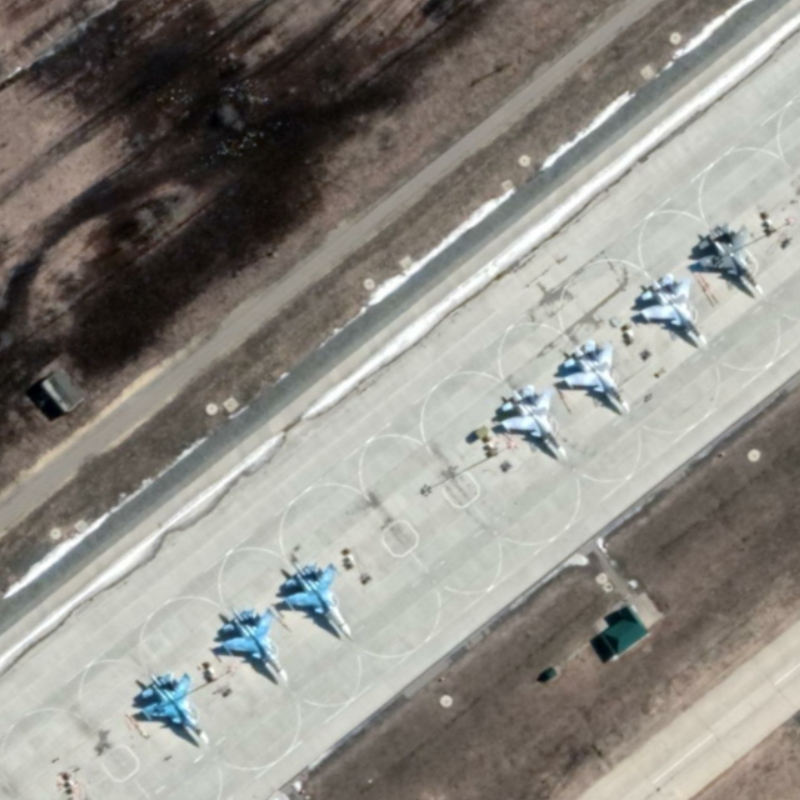A19: (281, 559, 355, 640), (218, 604, 290, 685), (639, 271, 711, 349), (139, 670, 212, 746), (499, 382, 569, 461), (562, 338, 633, 414), (696, 220, 765, 296)
